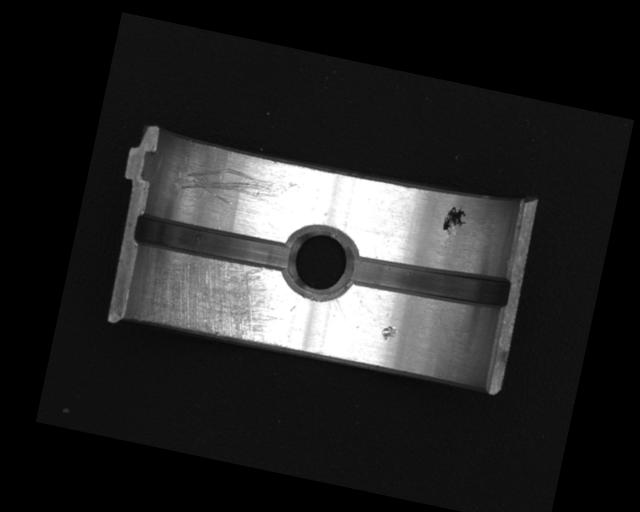blot: (440, 202, 470, 238)
bruise: (378, 323, 399, 343)
gap: (344, 248, 513, 316), (130, 209, 295, 277)
hole: (276, 218, 363, 304)
nick: (178, 157, 301, 218), (329, 297, 358, 329)
scratch: (130, 242, 304, 353)
